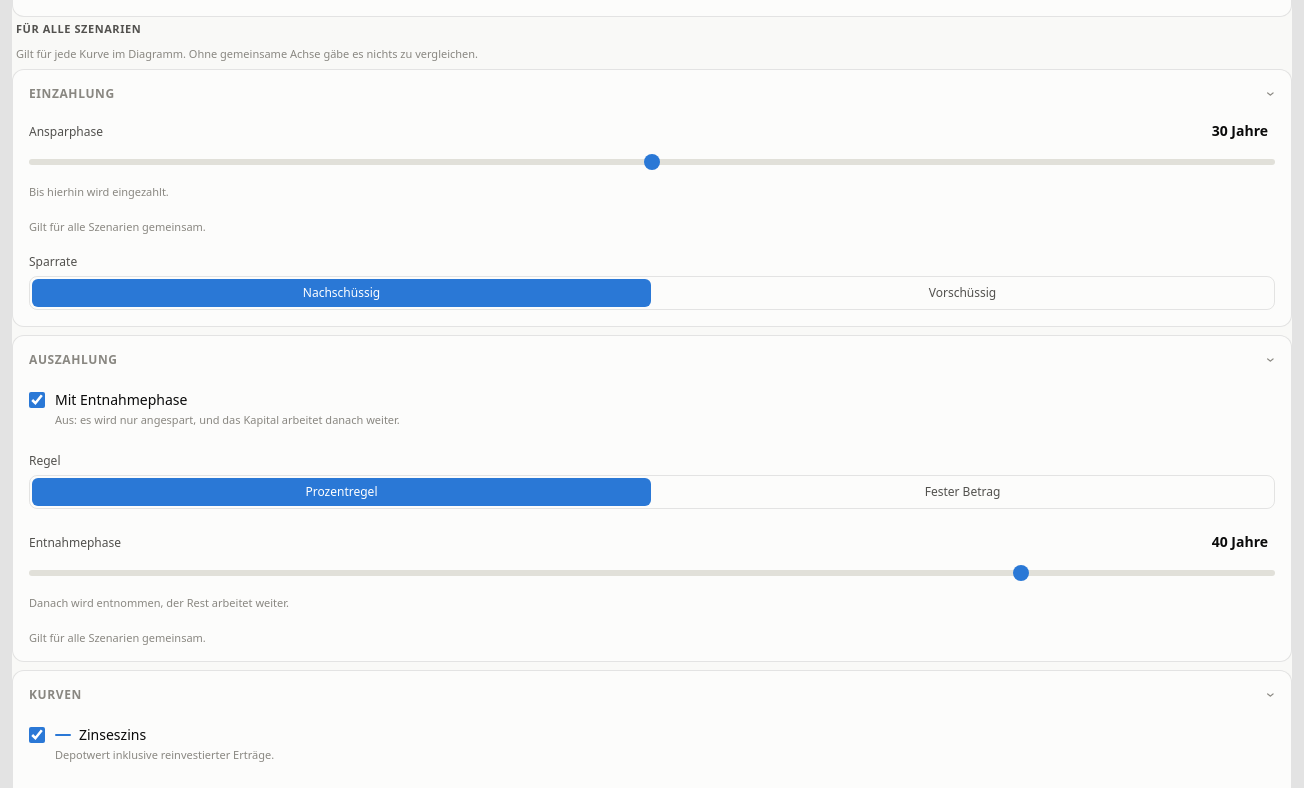
Test: SettingsPanel: Entnahmephase › holt beim Wiedereinschalten den zuletzt eingestellten Wert zurück
The image size is (1304, 788).
(page scrolled)
Step 1. Click the checkbox labelled "Mit Entnahmephase" → (37, 400), box [29,392,45,408]
(page scrolled)
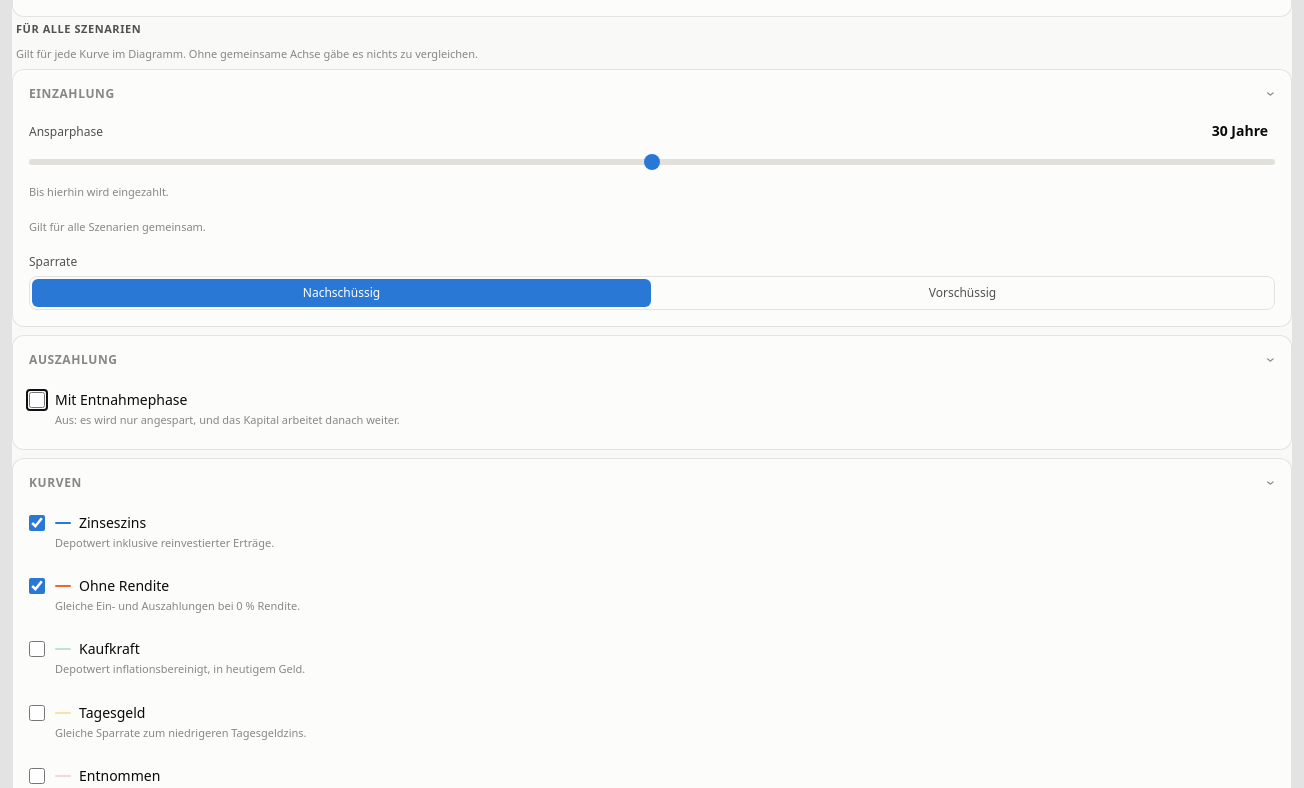
Step 2. Click the checkbox labelled "Mit Entnahmephase" → (37, 400), box [29,392,45,408]
(page scrolled)
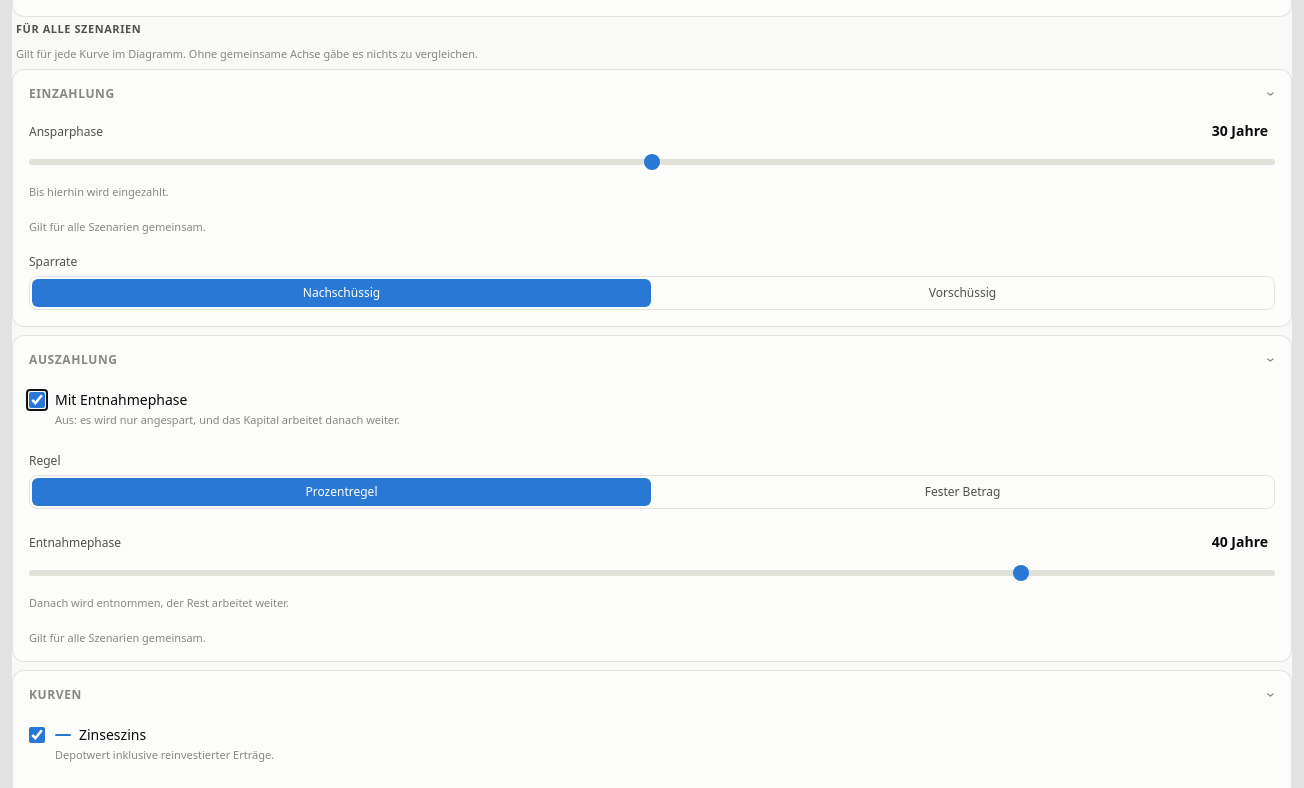
Expected: the slider named "Entnahmephase" holds "40", [29,561,1275,585]
